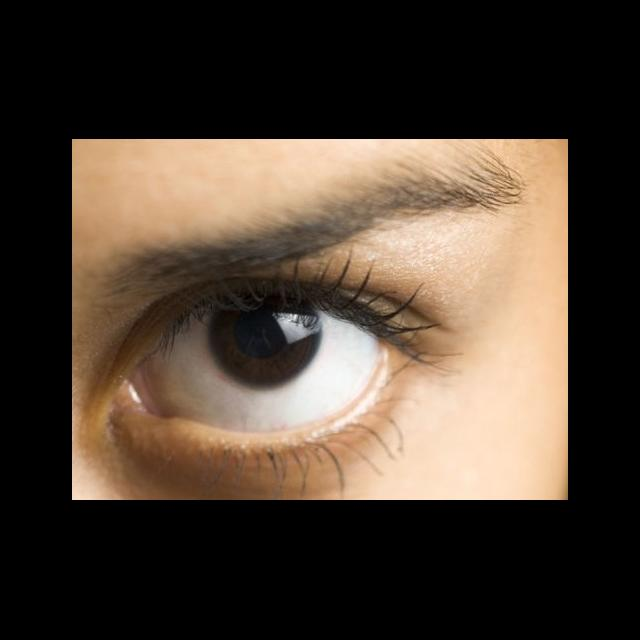eye: (143, 300, 385, 434)
iris: (207, 306, 322, 388)
